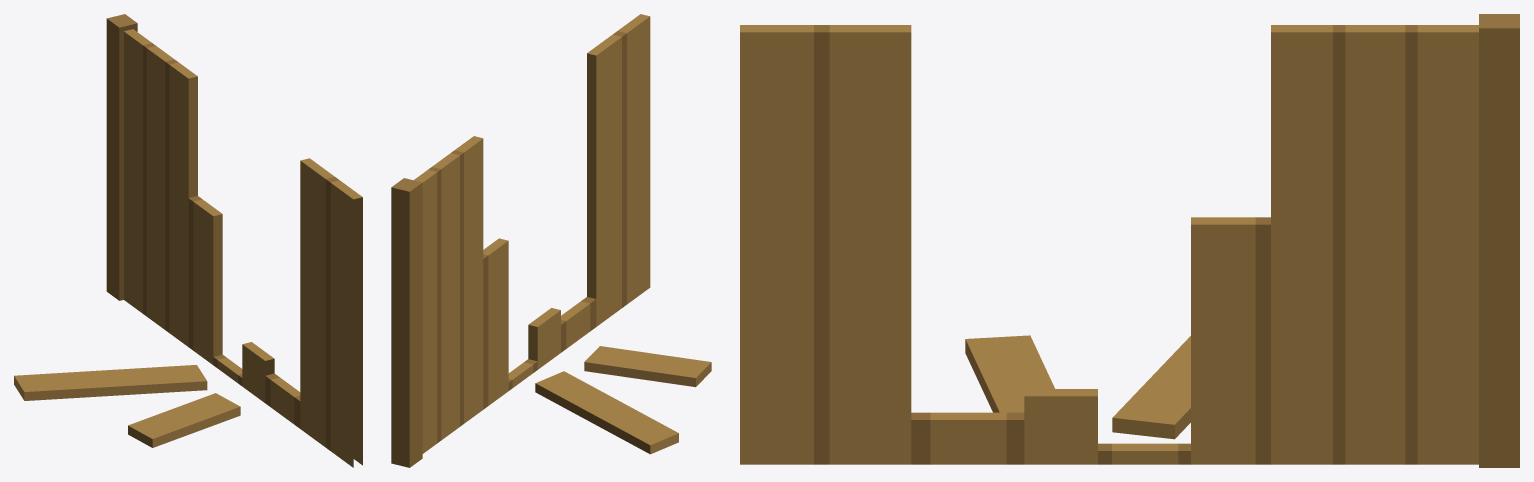
File: Fence_Wood_Damaged_03.fbx
The picture shows the model from 3 angles, left to right: view 1: azimuth 30°, elevation 25°; view 2: azimuth 150°, elevation 25°; view 3: azimuth 270°, elevation 25°; orthographic projection. The views are drawn at different scales.
Parts seen in each view (by area): view 1: Fence_Wood_Damaged_03; view 2: Fence_Wood_Damaged_03; view 3: Fence_Wood_Damaged_03.
Part boxes in pixels (x1,y1,x2,y2): Fence_Wood_Damaged_03: [14, 14, 362, 467]; Fence_Wood_Damaged_03: [391, 14, 711, 467]; Fence_Wood_Damaged_03: [740, 14, 1519, 467].
Size of the model in its own units: 2.2 by 4.79 by 2.98.
